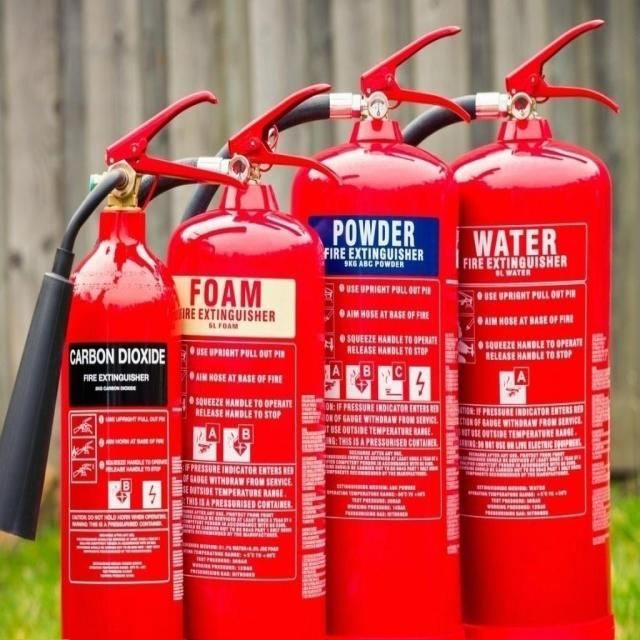fire_extinguisher: (356, 14, 624, 639), (210, 18, 474, 622), (101, 78, 346, 640), (0, 88, 249, 639)
